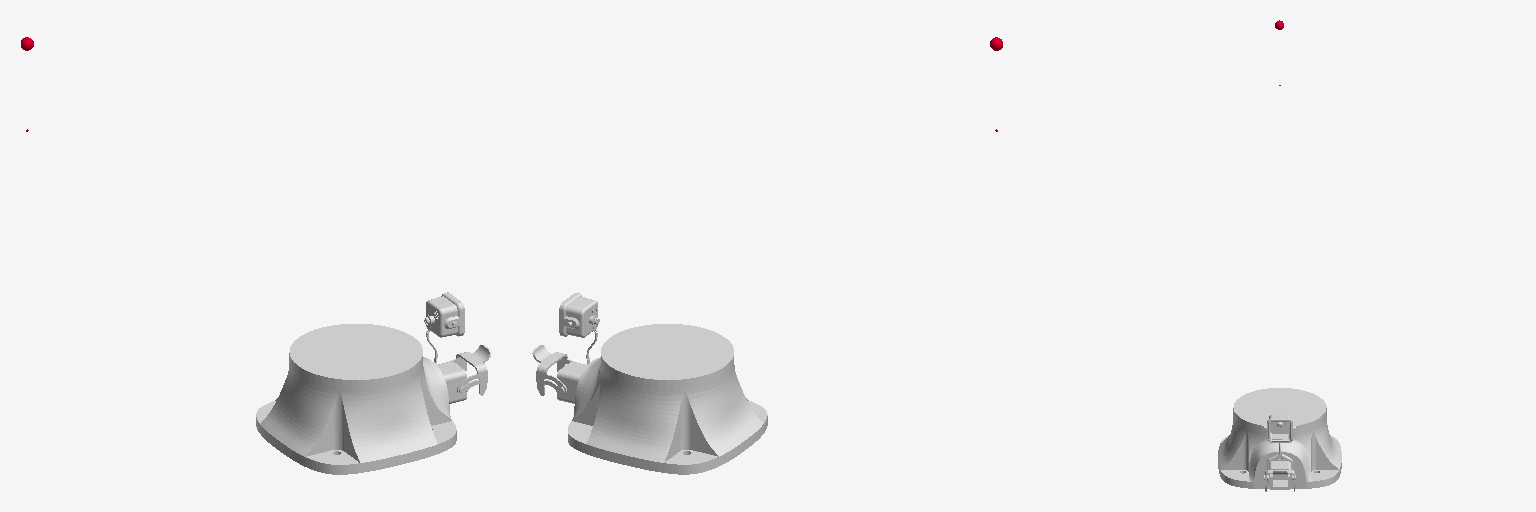
The robot description file, URDF, robot "mg400":
<?xml version="1.0" ?>
<robot name="mg400">
	<link name="world">
		<inertial>
			<origin rpy="0.00000 -0.00000 0.00000" xyz="0.00000 0.00000 0.00000"/>
			<mass value="0.00000"/>
			<inertia ixx="0.00000" ixy="0" ixz="0" iyy="0.00000" iyz="0" izz="0.00000"/>
		</inertial>
	</link>
	<link name="base_link">
		<inertial>
			<origin rpy="0.00000 -0.00000 0.00000" xyz="0.00060 -0.00000 0.05609"/>
			<mass value="3.62165"/>
			<inertia ixx="0.01587" ixy="0" ixz="0" iyy="0.01587" iyz="0" izz="0.02319"/>
		</inertial>
		<visual>
			<origin rpy="0.00000 -0.00000 0.00000" xyz="0.00000 0.00000 0.00000"/>
			<geometry>
				<mesh filename="../robot_arm_assets/mg400/meshes/base_link.STL" scale="1.00000 1.00000 1.00000"/>
			</geometry>
			<material name="mat_0">
				<color rgba="0.90000 0.90000 0.90000 1.00000" />
			</material>
		</visual>
		<collision>
			<origin rpy="0.00000 -0.00000 0.00000" xyz="0.00000 0.00000 0.00000"/>
			<geometry>
				<mesh filename="../robot_arm_assets/mg400/meshes/base_link.STL" scale="1.00000 1.00000 1.00000"/>
			</geometry>
		</collision>
	</link>
	<link name="link1">
		<inertial>
			<origin rpy="0.00000 -0.00000 0.00000" xyz="-0.00462 -0.00007 0.07099"/>
			<mass value="1.77056"/>
			<inertia ixx="0.00748" ixy="0" ixz="0" iyy="0.00775" iyz="0" izz="0.00787"/>
		</inertial>
		<visual>
			<origin rpy="0.00000 -0.00000 0.00000" xyz="0.00000 0.00000 0.00000"/>
			<geometry>
				<mesh filename="../robot_arm_assets/mg400/meshes/link1.STL" scale="1.00000 1.00000 1.00000"/>
			</geometry>
			<material name="mat_1">
				<color rgba="0.30000 0.30000 0.30000 1.00000" />
			</material>
		</visual>
		<collision>
			<origin rpy="0.00000 -0.00000 0.00000" xyz="0.00000 0.00000 0.00000"/>
			<geometry>
				<mesh filename="../robot_arm_assets/mg400/meshes/link1.STL" scale="1.00000 1.00000 1.00000"/>
			</geometry>
		</collision>
	</link>
	<link name="link2_1">
		<inertial>
			<origin rpy="0.00000 -0.00000 0.00000" xyz="-0.00322 0.03529 0.05961"/>
			<mass value="0.08661"/>
			<inertia ixx="0.00038" ixy="0" ixz="0" iyy="0.00035" iyz="0" izz="0.00006"/>
		</inertial>
		<visual>
			<origin rpy="0.00000 -0.00000 0.00000" xyz="0.00000 0.00000 0.00000"/>
			<geometry>
				<mesh filename="../robot_arm_assets/mg400/meshes/link2_1.STL" scale="1.00000 1.00000 1.00000"/>
			</geometry>
			<material name="mat_2">
				<color rgba="0.30000 0.30000 0.30000 1.00000" />
			</material>
		</visual>
		<collision>
			<origin rpy="0.00000 -0.00000 0.00000" xyz="0.00000 0.00000 0.00000"/>
			<geometry>
				<mesh filename="../robot_arm_assets/mg400/meshes/link2_1.STL" scale="1.00000 1.00000 1.00000"/>
			</geometry>
		</collision>
	</link>
	<link name="link3_1">
		<inertial>
			<origin rpy="0.00000 -0.00000 0.00000" xyz="0.08217 0.00011 -0.00334"/>
			<mass value="0.03752"/>
			<inertia ixx="0.00001" ixy="0" ixz="0" iyy="0.00018" iyz="0" izz="0.00018"/>
		</inertial>
		<visual>
			<origin rpy="0.00000 -0.00000 0.00000" xyz="0.00000 0.00000 0.00000"/>
			<geometry>
				<mesh filename="../robot_arm_assets/mg400/meshes/link3_1.STL" scale="1.00000 1.00000 1.00000"/>
			</geometry>
			<material name="mat_3">
				<color rgba="0.30000 0.30000 0.30000 1.00000" />
			</material>
		</visual>
		<collision>
			<origin rpy="0.00000 -0.00000 0.00000" xyz="0.00000 0.00000 0.00000"/>
			<geometry>
				<mesh filename="../robot_arm_assets/mg400/meshes/link3_1.STL" scale="1.00000 1.00000 1.00000"/>
			</geometry>
		</collision>
	</link>
	<link name="link4_1">
		<inertial>
			<origin rpy="0.00000 -0.00000 0.00000" xyz="0.03879 0.01708 -0.00246"/>
			<mass value="0.06290"/>
			<inertia ixx="0.00006" ixy="0" ixz="0" iyy="0.00010" iyz="0" izz="0.00007"/>
		</inertial>
		<visual>
			<origin rpy="0.00000 -0.00000 0.00000" xyz="0.00000 0.00000 0.00000"/>
			<geometry>
				<mesh filename="../robot_arm_assets/mg400/meshes/link4_1.STL" scale="1.00000 1.00000 1.00000"/>
			</geometry>
			<material name="mat_4">
				<color rgba="0.90000 0.90000 0.90000 1.00000" />
			</material>
		</visual>
		<collision>
			<origin rpy="0.00000 -0.00000 0.00000" xyz="0.00000 0.00000 0.00000"/>
			<geometry>
				<mesh filename="../robot_arm_assets/mg400/meshes/link4_1.STL" scale="1.00000 1.00000 1.00000"/>
			</geometry>
		</collision>
	</link>
	<link name="link5">
		<inertial>
			<origin rpy="0.00000 -0.00000 0.00000" xyz="0.00000 0.00000 -0.03497"/>
			<mass value="0.09653"/>
			<inertia ixx="0.00008" ixy="0" ixz="0" iyy="0.00008" iyz="0" izz="0.00003"/>
		</inertial>
		<visual>
			<origin rpy="0.00000 -0.00000 0.00000" xyz="0.00000 0.00000 0.00000"/>
			<geometry>
				<mesh filename="../robot_arm_assets/mg400/meshes/link5.STL" scale="1.00000 1.00000 1.00000"/>
			</geometry>
			<material name="mat_5">
				<color rgba="0.90000 0.90000 0.90000 1.00000" />
			</material>
		</visual>
		<collision>
			<origin rpy="0.00000 -0.00000 0.00000" xyz="0.00000 0.00000 0.00000"/>
			<geometry>
				<mesh filename="../robot_arm_assets/mg400/meshes/link5.STL" scale="1.00000 1.00000 1.00000"/>
			</geometry>
		</collision>
	</link>
	<link name="ee_link">
		<inertial>
			<origin rpy="-3.14000 -0.00000 1.57000" xyz="0.00000 0.00000 0.00000"/>
			<mass value="0.00000"/>
			<inertia ixx="0.00000" ixy="0" ixz="0" iyy="0.00000" iyz="0" izz="0.00000"/>
		</inertial>
		<visual>
			<origin rpy="0.00000 -0.00000 0.00000" xyz="0.00000 0.00000 0.00000"/>
			<geometry>
				<sphere radius="0.00500"/>
			</geometry>
			<material name="mat_6">
				<color rgba="0.90000 0.00000 0.20000 1.00000" />
			</material>
		</visual>
		<collision>
			<origin rpy="0.00000 -0.00000 0.00000" xyz="0.00000 0.00000 0.00000"/>
			<geometry>
				<sphere radius="0.00100"/>
			</geometry>
		</collision>
	</link>
	<link name="link2_2">
		<inertial>
			<origin rpy="0.00000 -0.00000 0.00000" xyz="-0.02011 0.03050 0.07363"/>
			<mass value="0.06625"/>
			<inertia ixx="0.00025" ixy="0" ixz="0" iyy="0.00024" iyz="0" izz="0.00004"/>
		</inertial>
		<visual>
			<origin rpy="0.00000 -0.00000 0.00000" xyz="0.00000 0.00000 0.00000"/>
			<geometry>
				<mesh filename="../robot_arm_assets/mg400/meshes/link2_2.STL" scale="1.00000 1.00000 1.00000"/>
			</geometry>
			<material name="mat_7">
				<color rgba="0.90000 0.90000 0.90000 1.00000" />
			</material>
		</visual>
		<collision>
			<origin rpy="0.00000 -0.00000 0.00000" xyz="0.00000 0.00000 0.00000"/>
			<geometry>
				<mesh filename="../robot_arm_assets/mg400/meshes/link2_2.STL" scale="1.00000 1.00000 1.00000"/>
			</geometry>
		</collision>
	</link>
	<link name="link3_2">
		<inertial>
			<origin rpy="0.00000 -0.00000 0.00000" xyz="0.03386 0.02402 0.00452"/>
			<mass value="0.03667"/>
			<inertia ixx="0.00002" ixy="0" ixz="0" iyy="0.00004" iyz="0" izz="0.00004"/>
		</inertial>
		<visual>
			<origin rpy="0.00000 -0.00000 0.00000" xyz="0.00000 0.00000 0.00000"/>
			<geometry>
				<mesh filename="../robot_arm_assets/mg400/meshes/link3_2.STL" scale="1.00000 1.00000 1.00000"/>
			</geometry>
			<material name="mat_8">
				<color rgba="0.30000 0.30000 0.30000 1.00000" />
			</material>
		</visual>
		<collision>
			<origin rpy="0.00000 -0.00000 0.00000" xyz="0.00000 0.00000 0.00000"/>
			<geometry>
				<mesh filename="../robot_arm_assets/mg400/meshes/link3_2.STL" scale="1.00000 1.00000 1.00000"/>
			</geometry>
		</collision>
	</link>
	<link name="link4_2">
		<inertial>
			<origin rpy="0.00000 -0.00000 0.00000" xyz="0.08764 0.02350 0.00831"/>
			<mass value="0.04536"/>
			<inertia ixx="0.00002" ixy="0" ixz="0" iyy="0.00016" iyz="0" izz="0.00016"/>
		</inertial>
		<visual>
			<origin rpy="0.00000 -0.00000 0.00000" xyz="0.00000 0.00000 0.00000"/>
			<geometry>
				<mesh filename="../robot_arm_assets/mg400/meshes/link4_2.STL" scale="1.00000 1.00000 1.00000"/>
			</geometry>
			<material name="mat_9">
				<color rgba="0.90000 0.90000 0.90000 1.00000" />
			</material>
		</visual>
		<collision>
			<origin rpy="0.00000 -0.00000 0.00000" xyz="0.00000 0.00000 0.00000"/>
			<geometry>
				<mesh filename="../robot_arm_assets/mg400/meshes/link4_2.STL" scale="1.00000 1.00000 1.00000"/>
			</geometry>
		</collision>
	</link>
	<link name="tactip_body_link">
		<inertial>
			<origin rpy="0.00000 -0.00000 0.00000" xyz="0.00000 0.00000 0.00000"/>
			<mass value="0.25000"/>
			<inertia ixx="0.00022" ixy="0" ixz="0" iyy="0.00021" iyz="0" izz="0.00021"/>
		</inertial>
		<visual>
			<origin rpy="0.00000 -0.00000 0.00000" xyz="0.00000 0.00000 0.00000"/>
			<geometry>
				<mesh filename="../sensor_assets/flat_tactip/../standard_tactip/body/tactip_body.obj" scale="1.00000 1.00000 1.00000"/>
			</geometry>
			<material name="mat_10">
				<color rgba="0.80000 0.80000 0.80000 1.00000" />
			</material>
		</visual>
		<collision>
			<origin rpy="0.00000 -0.00000 0.00000" xyz="0.00000 0.00000 0.00000"/>
			<geometry>
				<mesh filename="../sensor_assets/flat_tactip/../standard_tactip/body/tactip_body.obj" scale="1.00000 1.00000 1.00000"/>
			</geometry>
		</collision>
	</link>
	<link name="tactip_tip_link">
		<inertial>
			<origin rpy="0.00000 -0.00000 0.00000" xyz="0.00000 0.00000 0.00000"/>
			<mass value="0.01000"/>
			<inertia ixx="0.00000" ixy="0" ixz="0" iyy="0.00000" iyz="0" izz="0.00000"/>
		</inertial>
		<visual>
			<origin rpy="0.00000 -0.00000 0.00000" xyz="0.00000 0.00000 0.00000"/>
			<geometry>
				<mesh filename="../sensor_assets/flat_tactip/tip/skin.obj" scale="1.00000 1.00000 1.00000"/>
			</geometry>
			<material name="mat_11">
				<color rgba="0.00000 0.00000 0.00000 1.00000" />
			</material>
		</visual>
		<collision>
			<origin rpy="0.00000 -0.00000 0.00000" xyz="0.00000 0.00000 0.00000"/>
			<geometry>
				<mesh filename="../sensor_assets/flat_tactip/tip/core.obj" scale="1.00000 1.00000 1.00000"/>
			</geometry>
		</collision>
	</link>
	<link name="tcp_link">
		<inertial>
			<origin rpy="0.00000 -0.00000 1.57000" xyz="0.00000 0.00000 0.00000"/>
			<mass value="0.00000"/>
			<inertia ixx="0.00000" ixy="0" ixz="0" iyy="0.00000" iyz="0" izz="0.00000"/>
		</inertial>
		<visual>
			<origin rpy="0.00000 -0.00000 0.00000" xyz="0.00000 0.00000 0.00000"/>
			<geometry>
				<sphere radius="0.00100"/>
			</geometry>
			<material name="mat_12">
				<color rgba="0.90000 0.00000 0.20000 0.50000" />
			</material>
		</visual>
	</link>
	<joint name="world_joint" type="fixed">
		<parent link="world"/>
		<child link="base_link"/>
		<dynamics damping="1.0" friction="0.0001"/>
		<origin rpy="0.00000 -0.00000 -3.14000" xyz="0.00000 0.00000 0.00000"/>
		<axis xyz="0.00000 0.00000 0.00000"/>
	</joint>
	<joint name="j1" type="revolute">
		<parent link="base_link"/>
		<child link="link1"/>
		<limit effort="0.00000" lower="-3.14000" upper="3.14000" velocity="0.00000"/>
		<dynamics damping="1.0" friction="0.0001"/>
		<origin rpy="0.00000 -0.00000 0.00000" xyz="-0.00500 0.00000 0.10900"/>
		<axis xyz="0.00000 0.00000 1.00000"/>
	</joint>
	<joint name="j2_1" type="revolute">
		<parent link="link1"/>
		<child link="link2_1"/>
		<limit effort="0.00000" lower="-3.14000" upper="3.14000" velocity="0.00000"/>
		<dynamics damping="1.0" friction="0.0001"/>
		<origin rpy="0.00000 -0.00000 0.00000" xyz="0.04350 -0.03577 0.11900"/>
		<axis xyz="0.00000 1.00000 0.00000"/>
	</joint>
	<joint name="j3_1" type="revolute">
		<parent link="link2_1"/>
		<child link="link3_1"/>
		<limit effort="0.00000" lower="-3.14000" upper="3.14000" velocity="0.00000"/>
		<dynamics damping="1.0" friction="0.0001"/>
		<origin rpy="0.00000 -0.00000 0.00000" xyz="-0.00105 0.03577 0.17500"/>
		<axis xyz="0.00000 1.00000 0.00000"/>
	</joint>
	<joint name="j4_1" type="revolute">
		<parent link="link3_1"/>
		<child link="link4_1"/>
		<limit effort="0.00000" lower="-3.14000" upper="3.14000" velocity="0.00000"/>
		<dynamics damping="1.0" friction="0.0001"/>
		<origin rpy="0.00000 -0.00000 0.00000" xyz="0.17497 -0.01700 0.00325"/>
		<axis xyz="0.00000 1.00000 0.00000"/>
	</joint>
	<joint name="j5" type="revolute">
		<parent link="link4_1"/>
		<child link="link5"/>
		<limit effort="0.00000" lower="-3.14000" upper="3.14000" velocity="0.00000"/>
		<dynamics damping="1.0" friction="0.0001"/>
		<origin rpy="0.00000 -0.00000 0.00000" xyz="0.06600 0.01700 0.03100"/>
		<axis xyz="-0.00001 0.00000 1.00000"/>
	</joint>
	<joint name="ee_joint" type="fixed">
		<parent link="link5"/>
		<child link="ee_link"/>
		<dynamics damping="1.0" friction="0.0001"/>
		<origin rpy="0.00000 -0.00000 0.00000" xyz="0.00000 0.00000 -0.06500"/>
		<axis xyz="0.00000 0.00000 0.00000"/>
	</joint>
	<joint name="j2_2" type="revolute">
		<parent link="link1"/>
		<child link="link2_2"/>
		<limit effort="0.00000" lower="-3.14000" upper="3.14000" velocity="0.00000"/>
		<dynamics damping="1.0" friction="0.0001"/>
		<origin rpy="0.00000 -0.00000 0.00000" xyz="0.00453 -0.03050 0.14150"/>
		<axis xyz="0.00000 1.00000 0.00000"/>
	</joint>
	<joint name="j3_2" type="revolute">
		<parent link="link2_2"/>
		<child link="link3_2"/>
		<limit effort="0.00000" lower="-3.14000" upper="3.14000" velocity="0.00000"/>
		<dynamics damping="1.0" friction="0.0001"/>
		<origin rpy="0.00000 -0.00000 0.00000" xyz="-0.00105 0.00650 0.17500"/>
		<axis xyz="0.00000 1.00000 0.00000"/>
	</joint>
	<joint name="j4_2" type="revolute">
		<parent link="link3_2"/>
		<child link="link4_2"/>
		<limit effort="0.00000" lower="-3.14000" upper="3.14000" velocity="0.00000"/>
		<dynamics damping="1.0" friction="0.0001"/>
		<origin rpy="0.00000 -0.00000 0.00000" xyz="0.06790 0.00050 0.01197"/>
		<axis xyz="0.00000 1.00000 0.00000"/>
	</joint>
	<joint name="joint_dummy1" type="fixed">
		<parent link="ee_link"/>
		<child link="tactip_body_link"/>
		<dynamics damping="1.0" friction="0.0001"/>
		<origin rpy="-3.14159 0.00000 3.14159" xyz="0.00000 0.00000 0.00000"/>
		<axis xyz="0.00000 0.00000 1.00000"/>
	</joint>
	<joint name="tactip_tip_to_body" type="fixed">
		<parent link="tactip_body_link"/>
		<child link="tactip_tip_link"/>
		<dynamics damping="1.0" friction="0.0001"/>
		<origin rpy="1.57000 -0.00000 0.00000" xyz="0.00000 0.00000 0.06500"/>
		<axis xyz="0.00000 0.00000 0.00000"/>
	</joint>
	<joint name="tcp_joint" type="fixed">
		<parent link="tactip_body_link"/>
		<child link="tcp_link"/>
		<dynamics damping="1.0" friction="0.0001"/>
		<origin rpy="0.00000 -0.00000 0.00000" xyz="0.00000 0.00000 0.07000"/>
		<axis xyz="0.00000 0.00000 0.00000"/>
	</joint>
</robot>

--- What the picture shows (computed from the rendered views, not written in the file) ---
3 views of the same robot in one strip: view 1: azimuth 30°, elevation 25°; view 2: azimuth 150°, elevation 25°; view 3: azimuth 270°, elevation 25° (orthographic).
Robot: mg400 — 14 links, 13 joints (8 revolute, 5 fixed); root link world; default pose: all joints at 0.
Links seen in each view (by area): view 1: base_link; view 2: base_link; view 3: base_link.
Link boxes in pixels (box(x1,y1,x2,y2)): base_link: box(256, 292, 491, 474); base_link: box(532, 293, 767, 474); base_link: box(1218, 388, 1341, 491).
Bounding box of the posed robot: 0.3937 × 0.13 × 0.3837 m (x, y, z).
1 mesh visuals loaded from 11 distinct referenced files (1 binary STL); not drawn: 10 (reference not matched to a file when rendering).